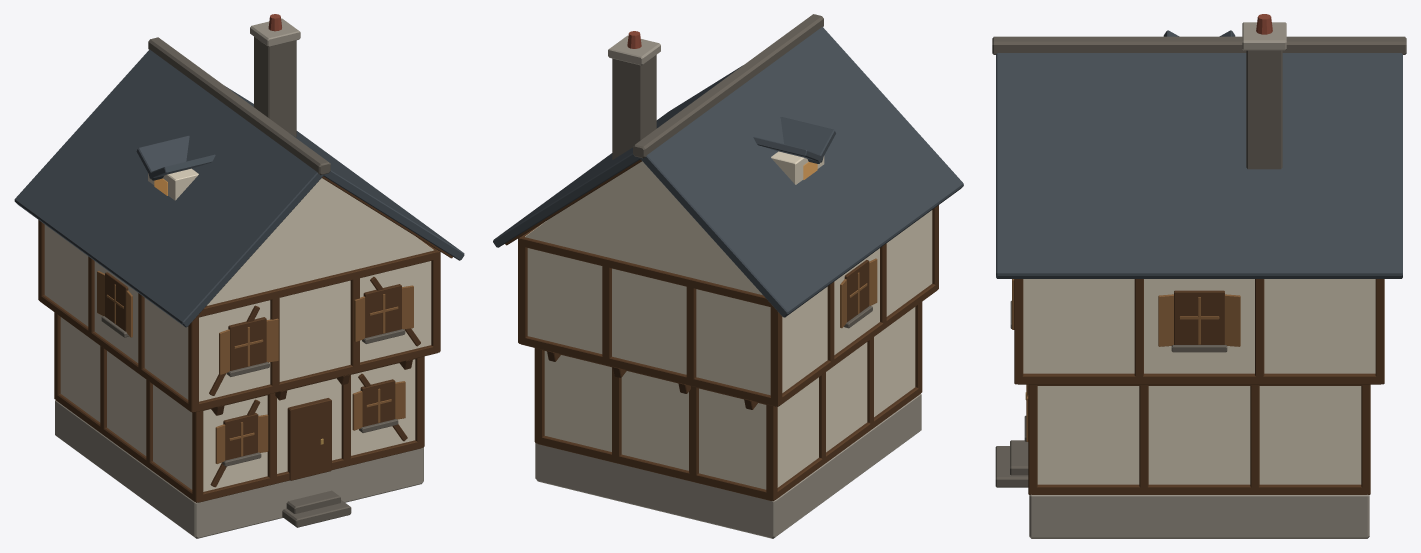
The model's file is house-townhouse.glb.
The picture shows the model from 3 angles, left to right: view 1: azimuth 30°, elevation 25°; view 2: azimuth 150°, elevation 25°; view 3: azimuth 270°, elevation 25°; orthographic projection. The views are drawn at different scales.
Visible parts, largest first — view 1: mat_plaster, mat_roofSlate, mat_timber, mat_stone, mat_stoneDark, mat_timberLight; view 2: mat_plaster, mat_roofSlate, mat_timber, mat_stone, mat_stoneDark, mat_timberLight; view 3: mat_roofSlate, mat_plaster, mat_timber, mat_stone, mat_stoneDark, mat_timberLight.
Part boxes in pixels (left/top/right/bottom): mat_plaster: left=44, top=168, right=433, bottom=491; mat_roofSlate: left=14, top=49, right=464, bottom=327; mat_timber: left=38, top=176, right=452, bottom=502; mat_stone: left=55, top=18, right=423, bottom=538; mat_stoneDark: left=101, top=36, right=405, bottom=527; mat_timberLight: left=97, top=271, right=413, bottom=463; mat_plaster: left=525, top=151, right=932, bottom=489; mat_roofSlate: left=493, top=27, right=963, bottom=317; mat_timber: left=505, top=159, right=938, bottom=501; mat_stone: left=535, top=35, right=921, bottom=538; mat_stoneDark: left=612, top=14, right=872, bottom=328; mat_timberLight: left=840, top=258, right=877, bottom=328; mat_roofSlate: left=996, top=30, right=1402, bottom=278; mat_plaster: left=1023, top=279, right=1375, bottom=484; mat_timber: left=1014, top=279, right=1384, bottom=494; mat_stone: left=1029, top=22, right=1369, bottom=538; mat_stoneDark: left=992, top=36, right=1406, bottom=487; mat_timberLight: left=1012, top=279, right=1240, bottom=441.
Size of the model in its own units: 9.44 by 13.07 by 9.96.
